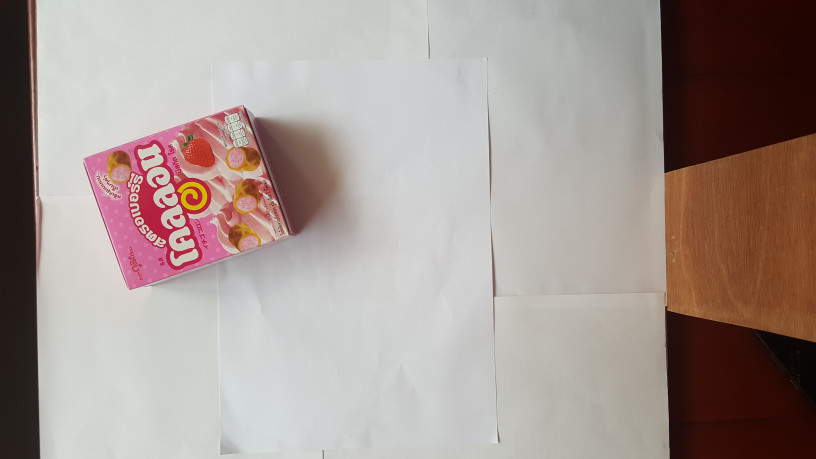collon-strawberry: (78, 103, 296, 295)
